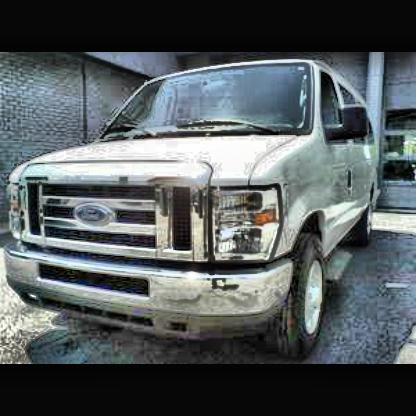Ford E-Series Wagon Van 2012: (12, 63, 382, 345)
